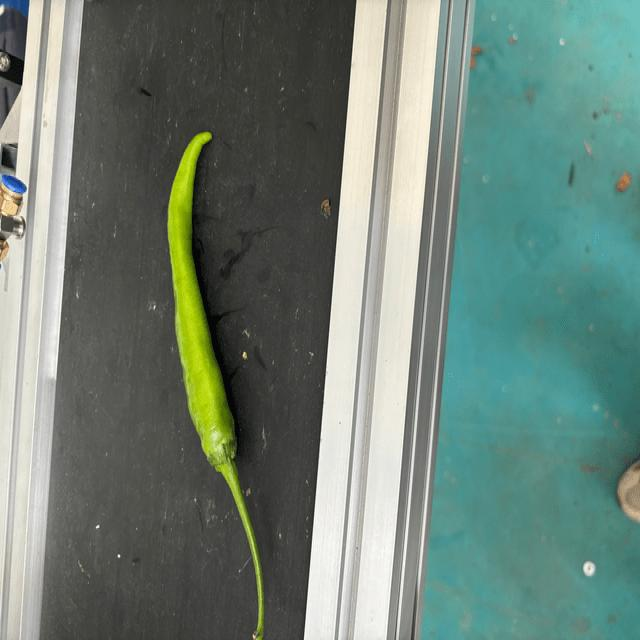chili: (164, 130, 238, 473)
